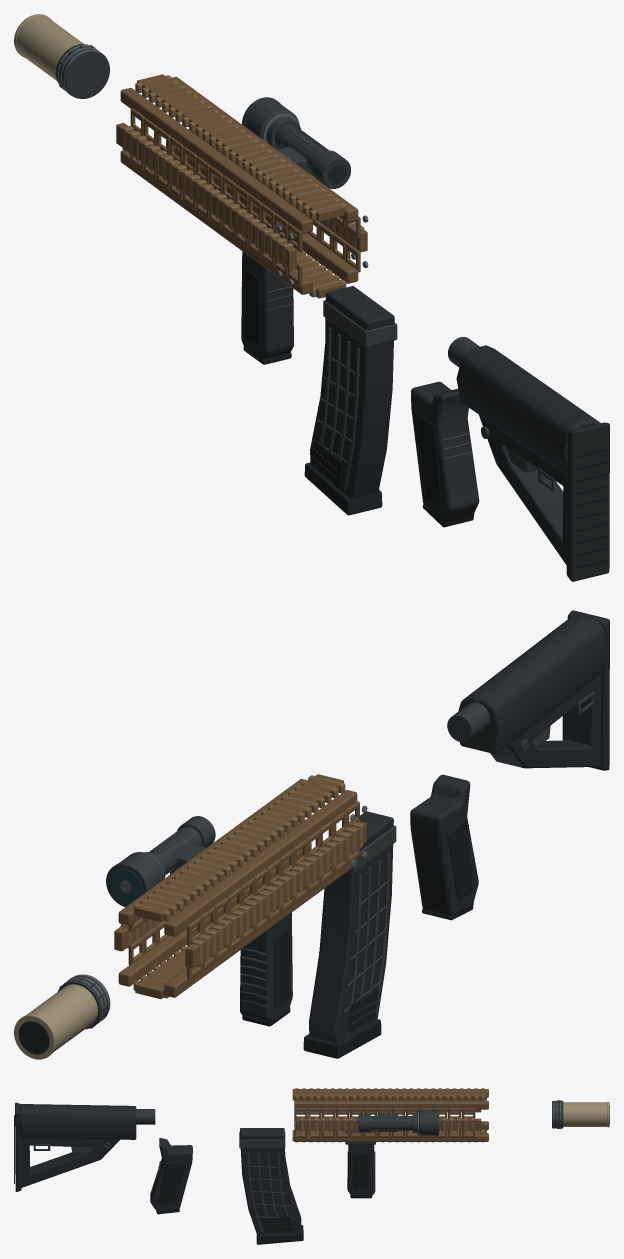
The model's file is exterior-variants.glb.
3 views of the same model, one above another, from view 1: azimuth 30°, elevation 25°; view 2: azimuth 150°, elevation 25°; view 3: azimuth 270°, elevation 25° (orthographic). The views are drawn at different scales.
Visible parts, largest first — view 1: PMAG_Polymer_shell, CTR_Cheek_shell, K2_Main_shell, CTR_Shoulder_pad, RISII_Long_rail_back_0.117, CTR_Open_A_frame, RISII_Corner_spine_-0.025_0.108, RVG_Vertical_shell, RISII_Side_rail_back_-0.039, Warden_Main_shroud, Warden_Rear_collar, RISII_Corner_spine_0.025_0.044 (+11 smaller); view 2: PMAG_Polymer_shell, CTR_Cheek_shell, K2_Main_shell, CTR_Open_A_frame, RISII_Long_rail_back_0.117, RISII_Corner_spine_-0.025_0.108, RVG_Vertical_shell, RISII_Side_rail_back_-0.039, Warden_Main_shroud, RISII_Corner_spine_0.025_0.044, RISII_Corner_spine_-0.025_0.044, K2_Textured_panel_-1 (+15 smaller); view 3: CTR_Cheek_shell, PMAG_Polymer_shell, CTR_Open_A_frame, RISII_Long_rail_back_0.117, RISII_Corner_spine_0.025_0.108, K2_Main_shell, RISII_Corner_spine_0.025_0.044, Warden_Main_shroud, RVG_Vertical_shell, RISII_Side_rail_back_0.039, K2_Textured_panel_1, Scout_Main_body (+9 smaller).
Boxes of the visible parts, bbox=[...] form: PMAG_Polymer_shell: bbox=[310, 286, 394, 499]; CTR_Cheek_shell: bbox=[456, 345, 600, 475]; K2_Main_shell: bbox=[411, 381, 479, 522]; CTR_Shoulder_pad: bbox=[566, 422, 609, 581]; RISII_Long_rail_back_0.117: bbox=[137, 74, 344, 221]; CTR_Open_A_frame: bbox=[479, 415, 567, 564]; RISII_Corner_spine_-0.025_0.108: bbox=[120, 88, 312, 233]; RVG_Vertical_shell: bbox=[241, 251, 293, 360]; RISII_Side_rail_back_-0.039: bbox=[116, 123, 296, 269]; Warden_Main_shroud: bbox=[16, 16, 83, 80]; Warden_Rear_collar: bbox=[55, 44, 109, 98]; RISII_Corner_spine_0.025_0.044: bbox=[166, 140, 358, 283]; PMAG_Polymer_shell: bbox=[309, 811, 393, 1042]; CTR_Cheek_shell: bbox=[458, 614, 608, 753]; K2_Main_shell: bbox=[410, 774, 478, 915]; CTR_Open_A_frame: bbox=[490, 673, 601, 768]; RISII_Long_rail_back_0.117: bbox=[135, 774, 343, 921]; RISII_Corner_spine_-0.025_0.108: bbox=[164, 790, 357, 936]; RVG_Vertical_shell: bbox=[240, 912, 292, 1022]; RISII_Side_rail_back_-0.039: bbox=[185, 821, 366, 968]; Warden_Main_shroud: bbox=[27, 984, 97, 1051]; RISII_Corner_spine_0.025_0.044: bbox=[118, 842, 311, 986]; RISII_Corner_spine_-0.025_0.044: bbox=[164, 853, 357, 997]; K2_Textured_panel_-1: bbox=[447, 819, 473, 901]; CTR_Cheek_shell: bbox=[20, 1104, 136, 1139]; PMAG_Polymer_shell: bbox=[240, 1128, 301, 1235]; CTR_Open_A_frame: bbox=[21, 1138, 119, 1187]; RISII_Long_rail_back_0.117: bbox=[292, 1089, 486, 1100]; RISII_Corner_spine_0.025_0.108: bbox=[294, 1100, 488, 1109]; K2_Main_shell: bbox=[150, 1138, 192, 1212]; RISII_Corner_spine_0.025_0.044: bbox=[294, 1133, 488, 1141]; Warden_Main_shroud: bbox=[563, 1102, 607, 1126]; RVG_Vertical_shell: bbox=[347, 1144, 375, 1197]; RISII_Side_rail_back_0.039: bbox=[296, 1118, 481, 1130]; K2_Textured_panel_1: bbox=[157, 1163, 185, 1204]; Scout_Main_body: bbox=[370, 1116, 412, 1130].
Bounding box in the file's own units: 0.1405 × 0.2923 × 1.07.
